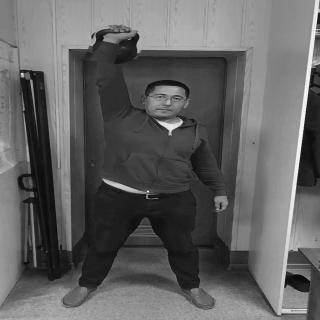kettlebell: (87, 28, 147, 67)
